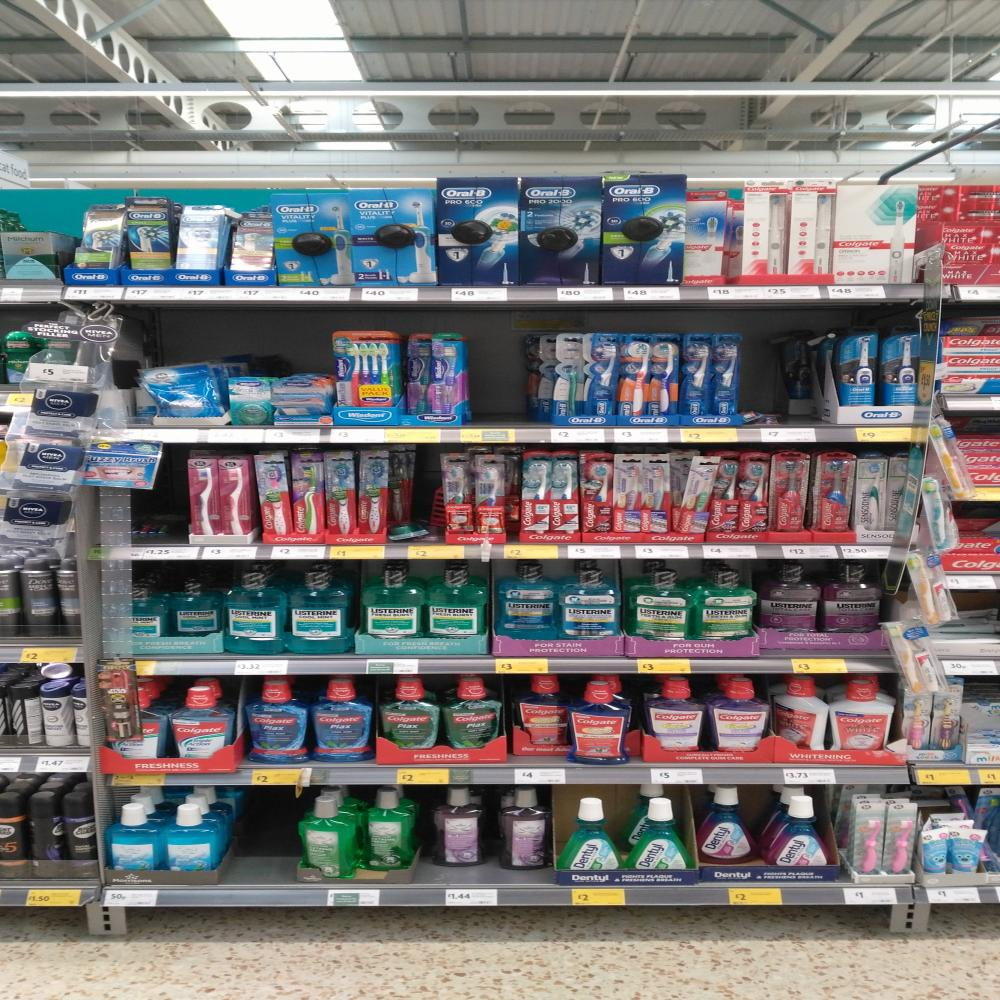shelf: (103, 767, 1000, 788), (104, 887, 1000, 907), (95, 659, 1000, 676), (60, 285, 950, 302), (0, 425, 920, 441), (85, 544, 912, 561), (0, 753, 94, 774), (0, 885, 90, 905), (0, 647, 93, 662), (928, 484, 1000, 502), (927, 573, 1000, 589), (0, 282, 55, 303), (948, 282, 1000, 302), (936, 393, 1000, 409)
